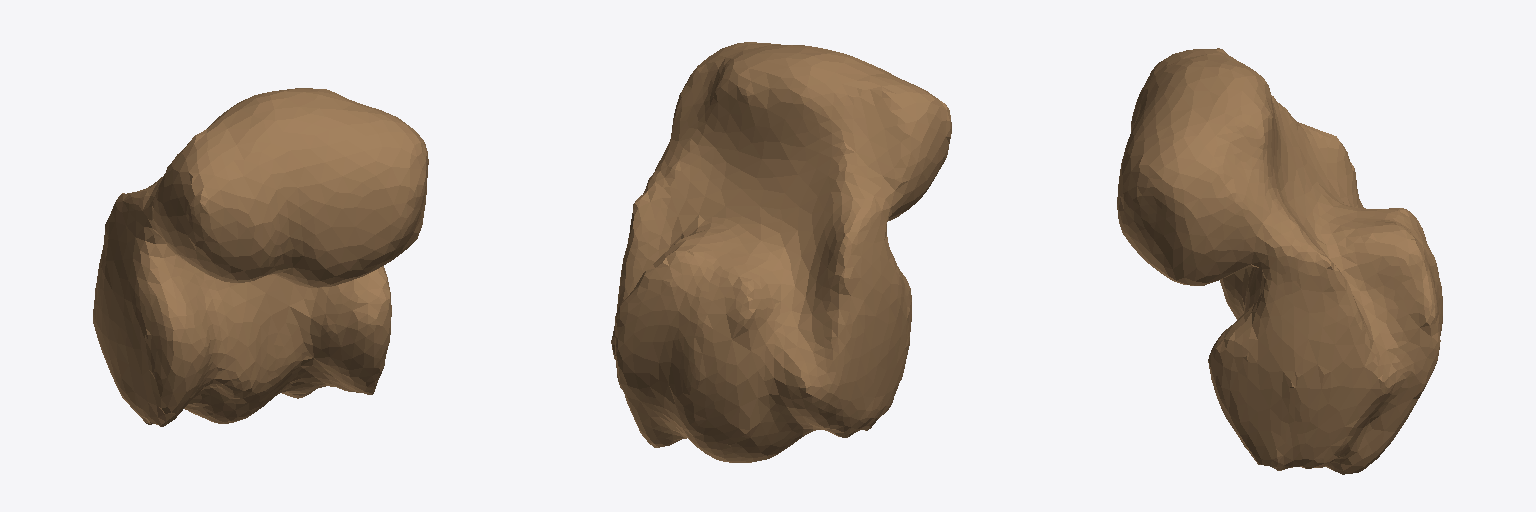
File: hypothalamus.obj
3 renders of one model, left to right at view 1: azimuth 30°, elevation 25°; view 2: azimuth 150°, elevation 25°; view 3: azimuth 270°, elevation 25°, orthographic.
Parts seen in each view (by area): view 1: Hypothalamus_Hypothalamus.001; view 2: Hypothalamus_Hypothalamus.001; view 3: Hypothalamus_Hypothalamus.001.
Part boxes in pixels (x1,y1,x2,y2): Hypothalamus_Hypothalamus.001: (93, 88, 428, 426); Hypothalamus_Hypothalamus.001: (611, 42, 951, 462); Hypothalamus_Hypothalamus.001: (1117, 48, 1442, 474).
Size of the model in its own units: 51.4 by 70.38 by 57.26.